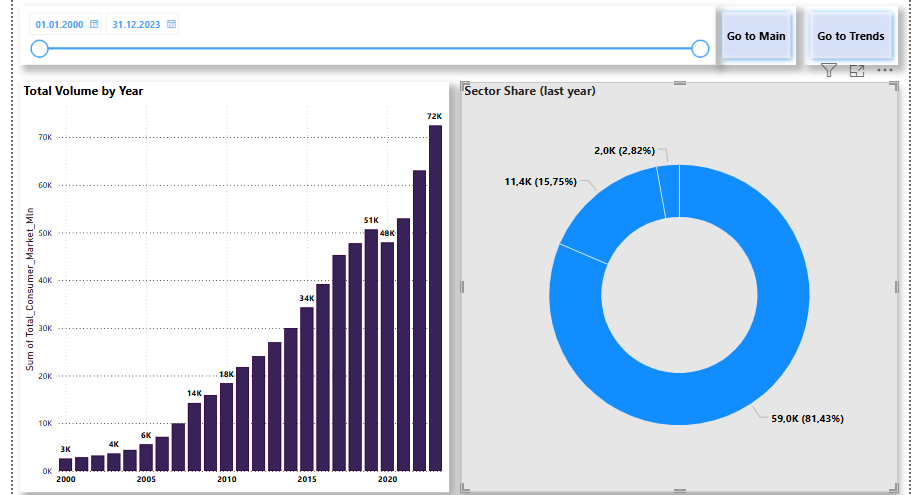

What the dashboard file says about the page in this screenshot:
{"tool":"powerbi","page":{"name":"Overview","canvas":[1280,720],"ordinal":1},"visuals":[{"type":"columnChart","title":" Total Volume by Year","fields":{"Y":["Sum(Retail_Services_Volume.Total_Consumer_Market_Mln)"],"Category":["Calendar.Date"]},"box":[10,118.6,612.9,585.7],"z":0},{"type":"slicer","fields":{"Values":["Calendar.Date"]},"box":[10.1,10.1,993.6,83.5],"z":1000},{"type":"donutChart","title":"Sector Share (last year)","fields":{"Category":["Calendar.Year"],"Y":["Sum(Retail_Services_Volume.Retail_Trade_Volume_Mln                                                                      ","Sum(Retail_Services_Volume.Paid_Services_Volume_Mln              )","Sum(Retail_Services_Volume.Catering_Volume_Mln                          )"]},"box":[640,118.6,624.3,585.7],"z":2000},{"type":"actionButton","box":[1130.4,10.1,133.9,83.5],"z":3000},{"type":"actionButton","box":[1003.7,10.1,115.2,83.5],"z":4000}]}

Visuals, with their boxes on the page's 1280x720 design canvas (x1, y1, x2, y2). These are canvas units, not pixel positions in the 915x495 screenshot, which may show the page scaled, cropped or inside an application window:
" Total Volume by Year" columnChart: 10,119,623,704
slicer - Calendar.Date: 10,10,1004,94
"Sector Share (last year)" donutChart: 640,119,1264,704
actionButton: 1130,10,1264,94
actionButton: 1004,10,1119,94
